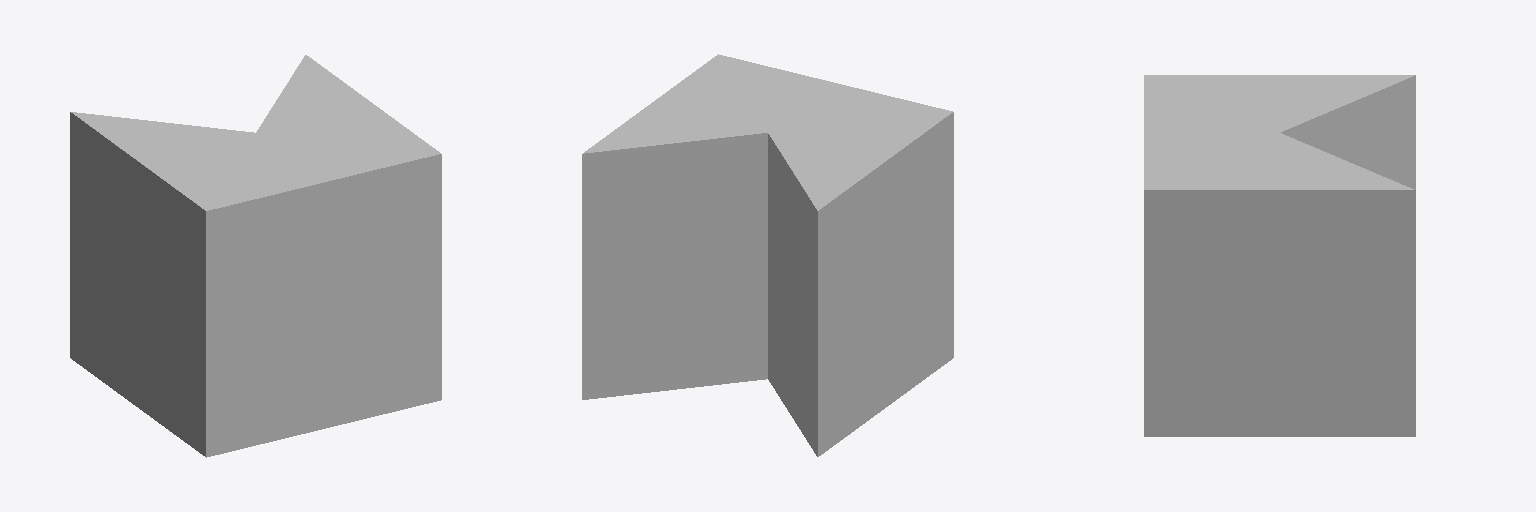
The model's file is diagstep_6.obj.
The picture shows the model from 3 angles: view 1: azimuth 30°, elevation 25°; view 2: azimuth 150°, elevation 25°; view 3: azimuth 270°, elevation 25°; orthographic projection.
Bounding box in the file's own units: 1 × 1 × 1.